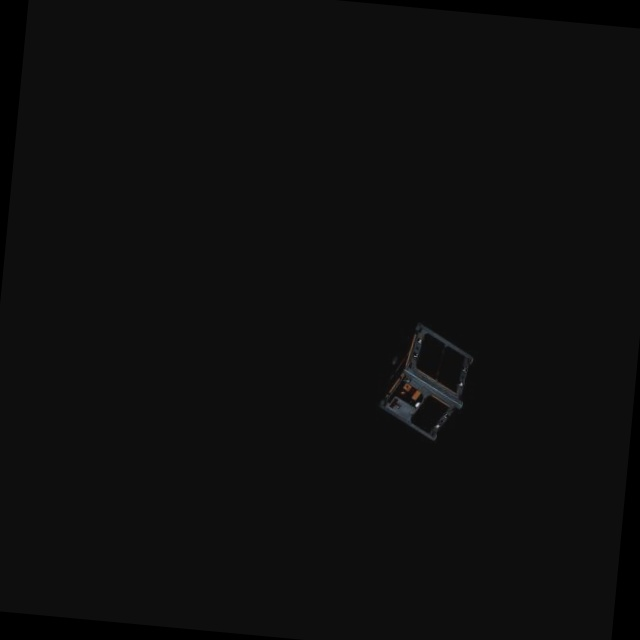satellite: (370, 319, 478, 447)
